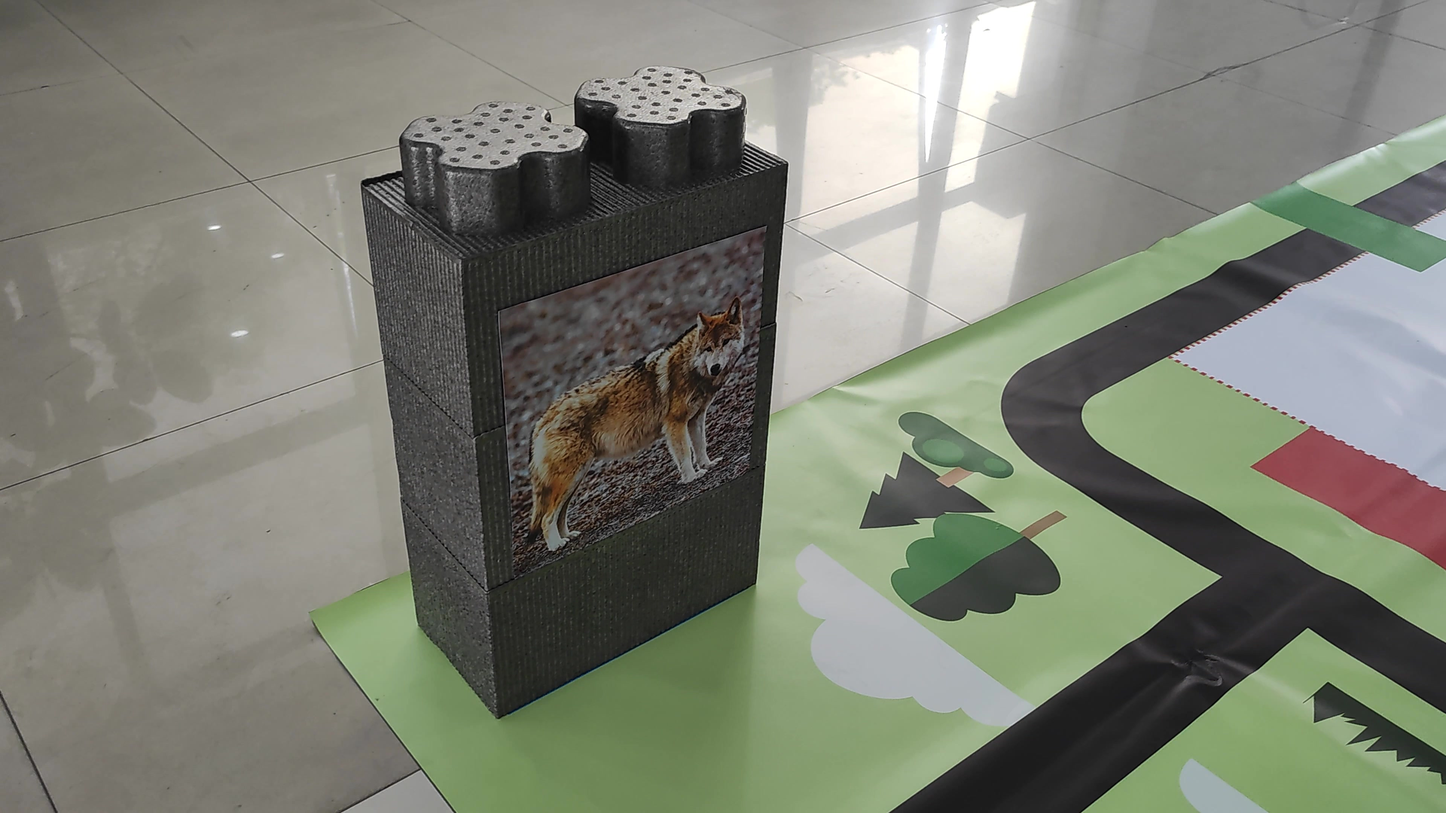wolf: (516, 279, 729, 555)
